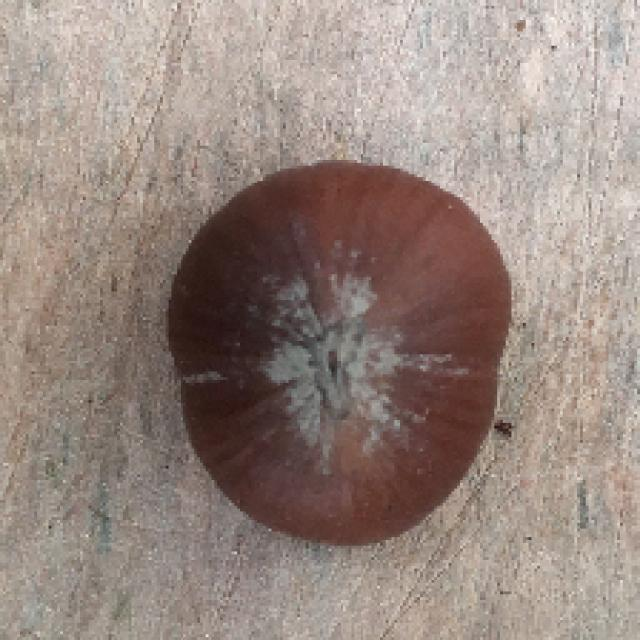DamagedHazelnut: (161, 162, 515, 546)
